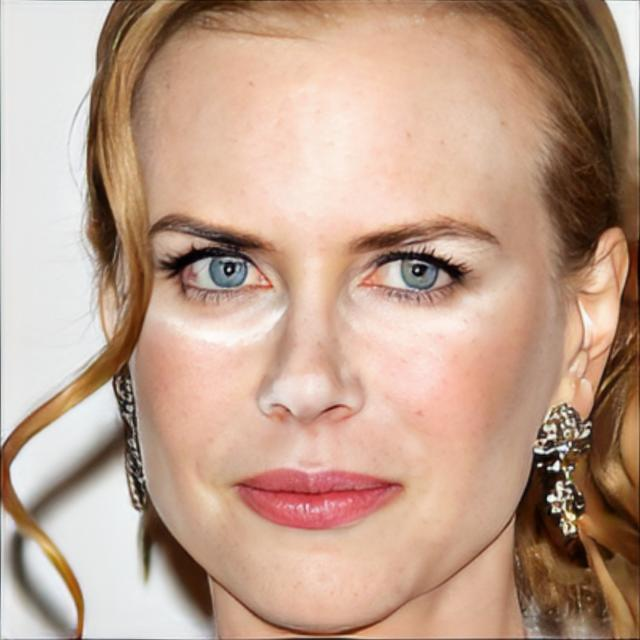anger: (130, 56, 554, 627)
